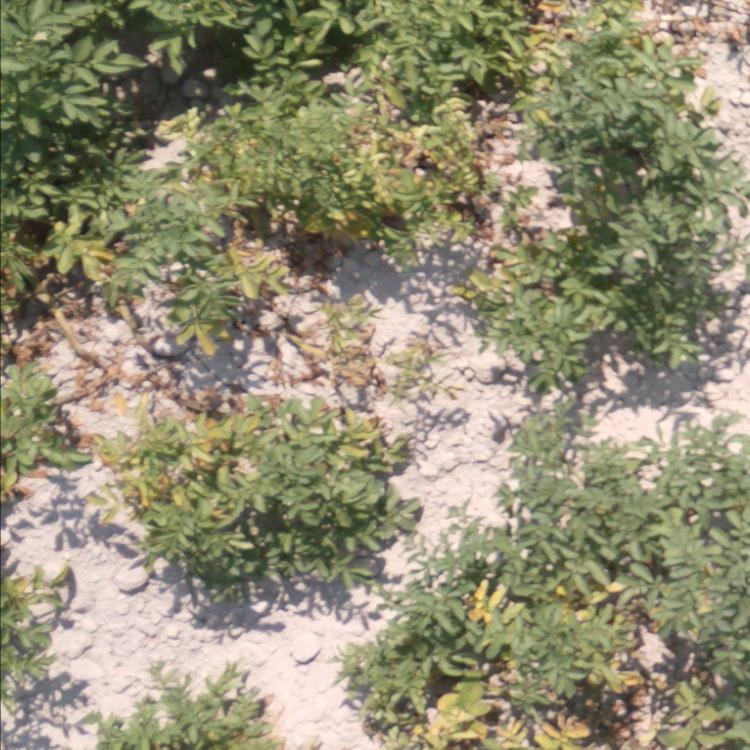healthy: (531, 443, 750, 591), (557, 36, 713, 217), (144, 1, 544, 60), (6, 1, 127, 181), (562, 232, 704, 378), (112, 672, 271, 750)
stressed: (356, 596, 750, 750), (127, 405, 374, 590), (193, 63, 480, 216), (133, 227, 315, 362), (1, 196, 132, 313), (468, 229, 556, 381), (1, 363, 80, 507), (408, 523, 518, 588), (1, 570, 55, 702)
